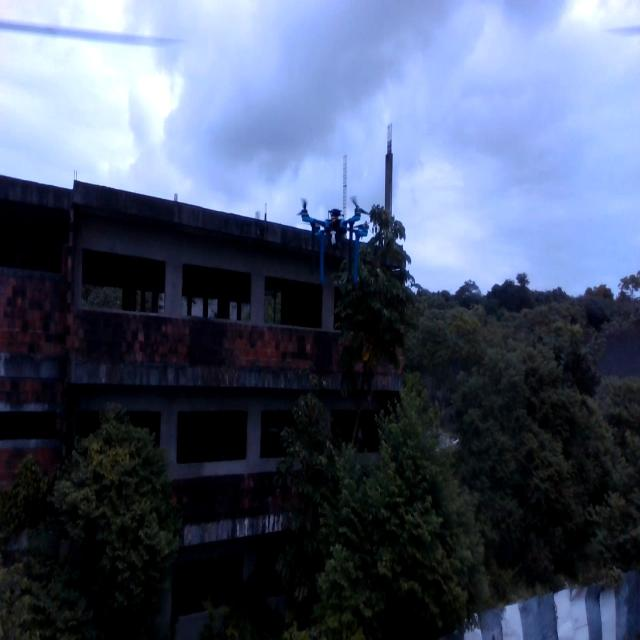-uav-: (282, 188, 382, 292)
